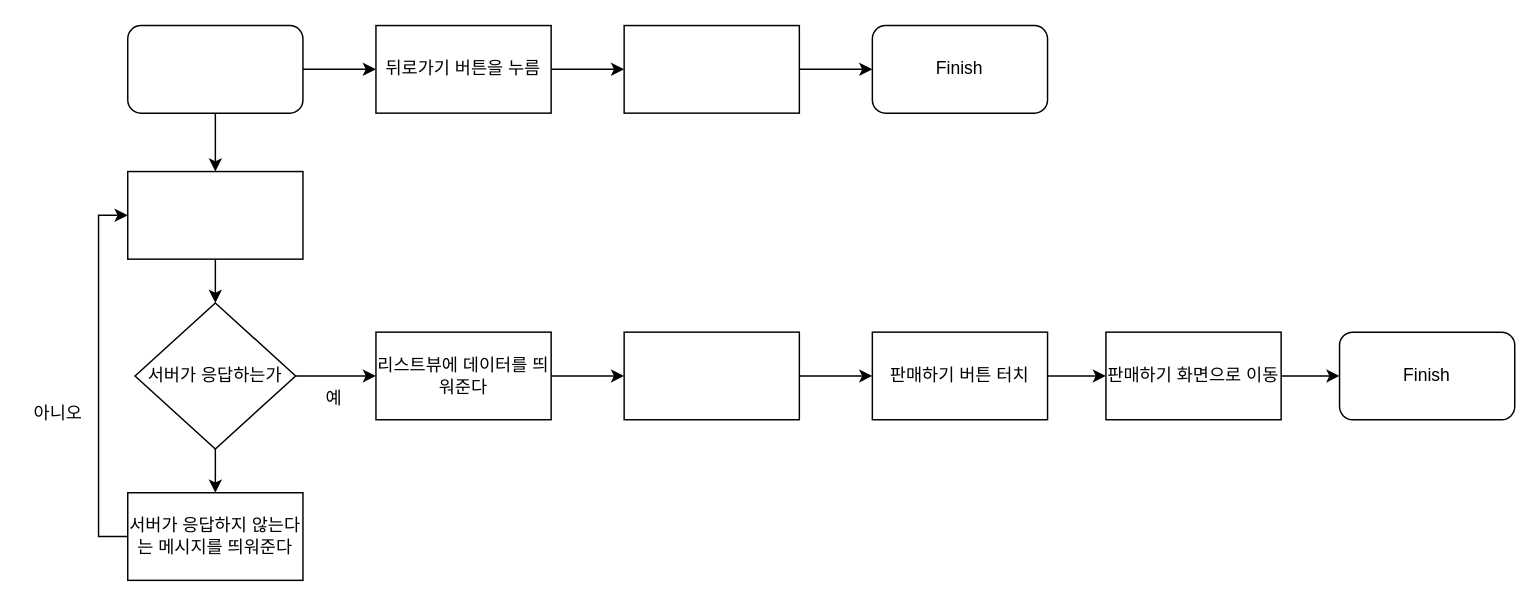
This 1540x606 diagram has some shape labels left out. The shapes that lost their labels are listed below. From the top down, each one's box as (x1, y1, x2, y2) in pixels, then its label:
(126, 24, 303, 113): start
(623, 24, 799, 113): 경매장화면으로 이동
(126, 170, 303, 259): DB로부터 데이터를 가져온다
(623, 331, 799, 420): 원하는 아이템을 선택
